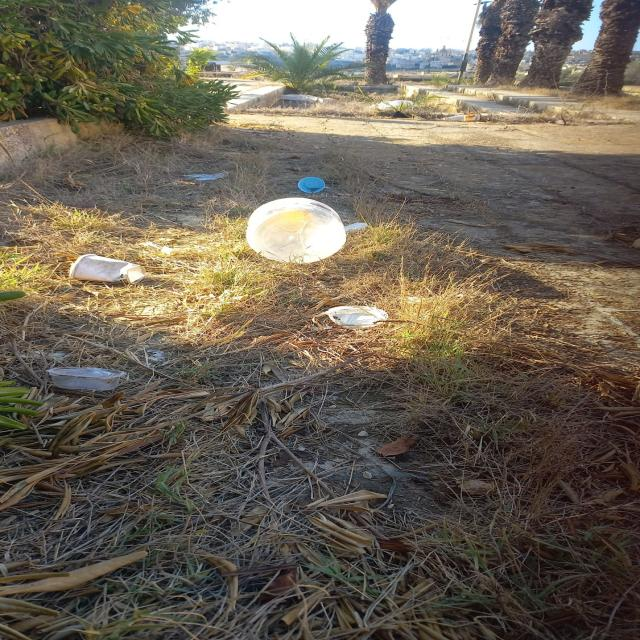Bottle: (245, 198, 348, 263), (441, 114, 480, 121)
Cup: (68, 253, 147, 284), (297, 177, 326, 193)
Lid: (326, 305, 389, 329)
Other plastic: (280, 94, 336, 104), (185, 173, 232, 182), (371, 100, 414, 108), (345, 222, 369, 232)
Plastic container: (48, 365, 126, 391)
